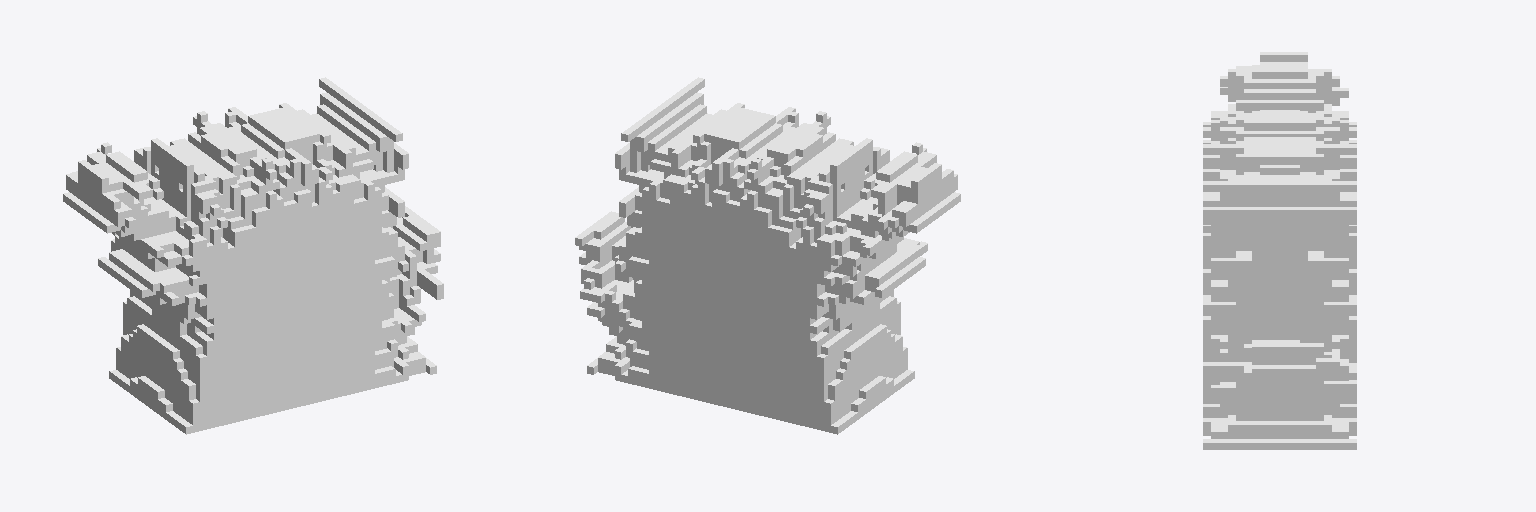
Rendered from Dungeon1.vox.obj.
3 renders of one model, left to right at view 1: azimuth 30°, elevation 25°; view 2: azimuth 150°, elevation 25°; view 3: azimuth 270°, elevation 25°, orthographic.
Visible parts, largest first — view 1: object 1; view 2: object 1; view 3: object 1.
Part boxes in pixels (bbox=[...]): object 1: bbox=[63, 77, 443, 434]; object 1: bbox=[575, 77, 960, 434]; object 1: bbox=[1203, 52, 1356, 449].
Bounding box in the file's own units: 4.9 × 3.4 × 1.9.